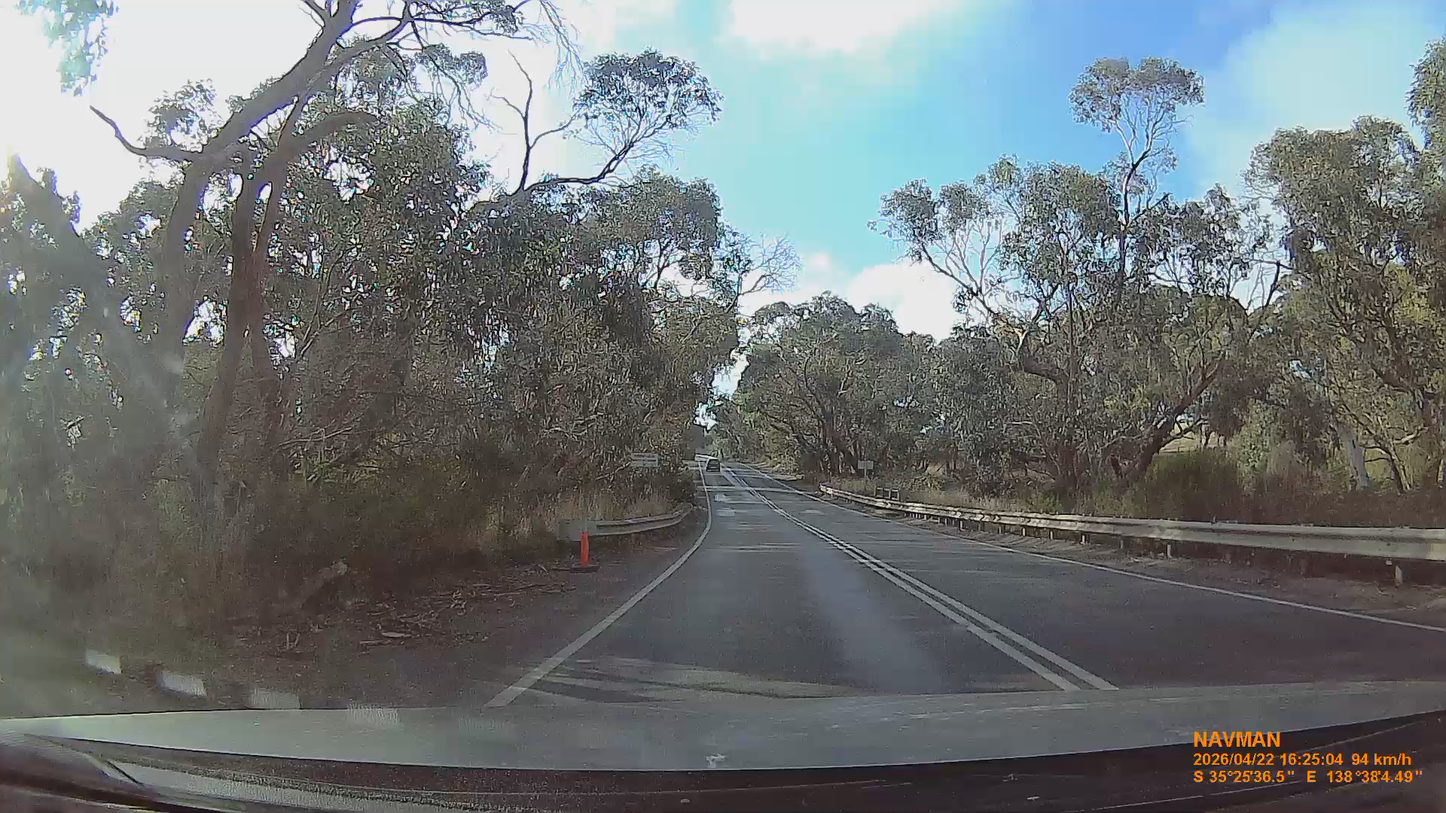road barriers: (821, 485, 1445, 583), (557, 505, 693, 541)
